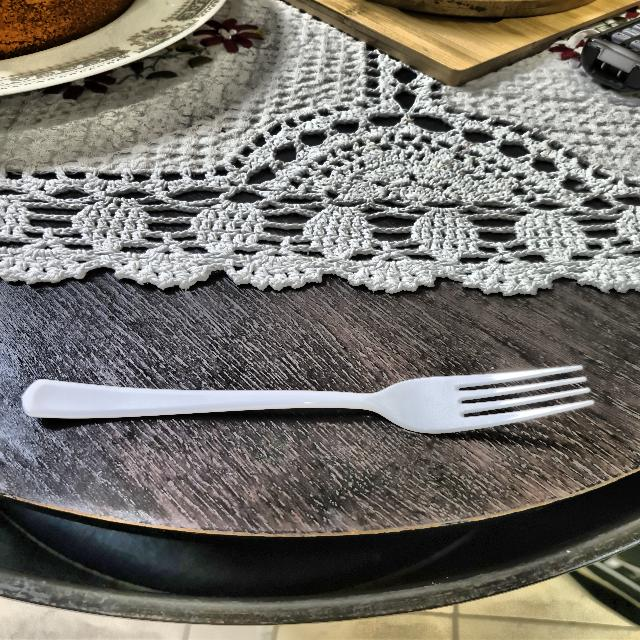plastic utensil: (30, 356, 604, 431)
